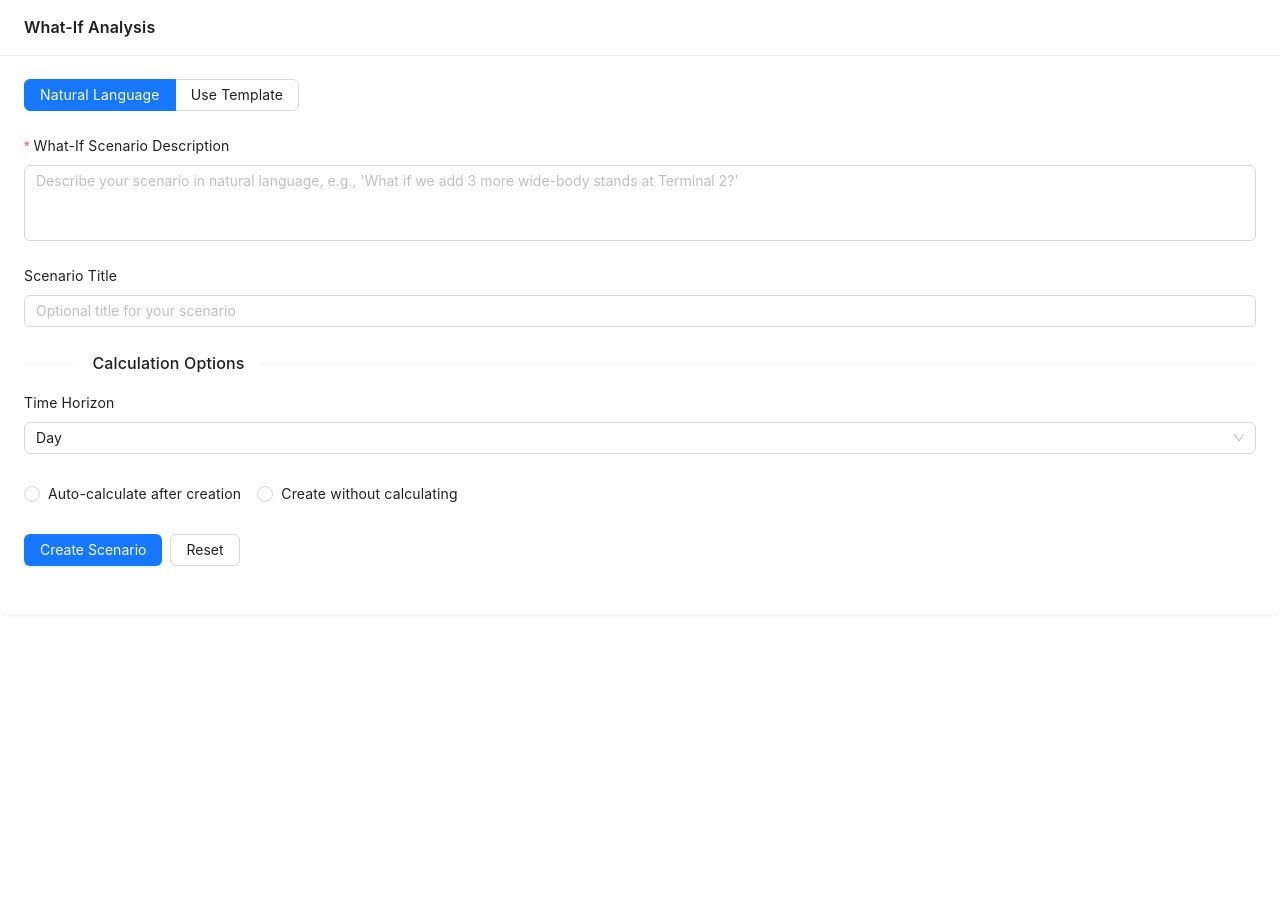
it: WhatIfAnalysis Component › handles calculation failure status correctly
Note: Fill out the form
Replace the text in the text box labelled "What-If Scenario Description" with "Test failed calculation" at (640, 203), box [24, 165, 1256, 241]
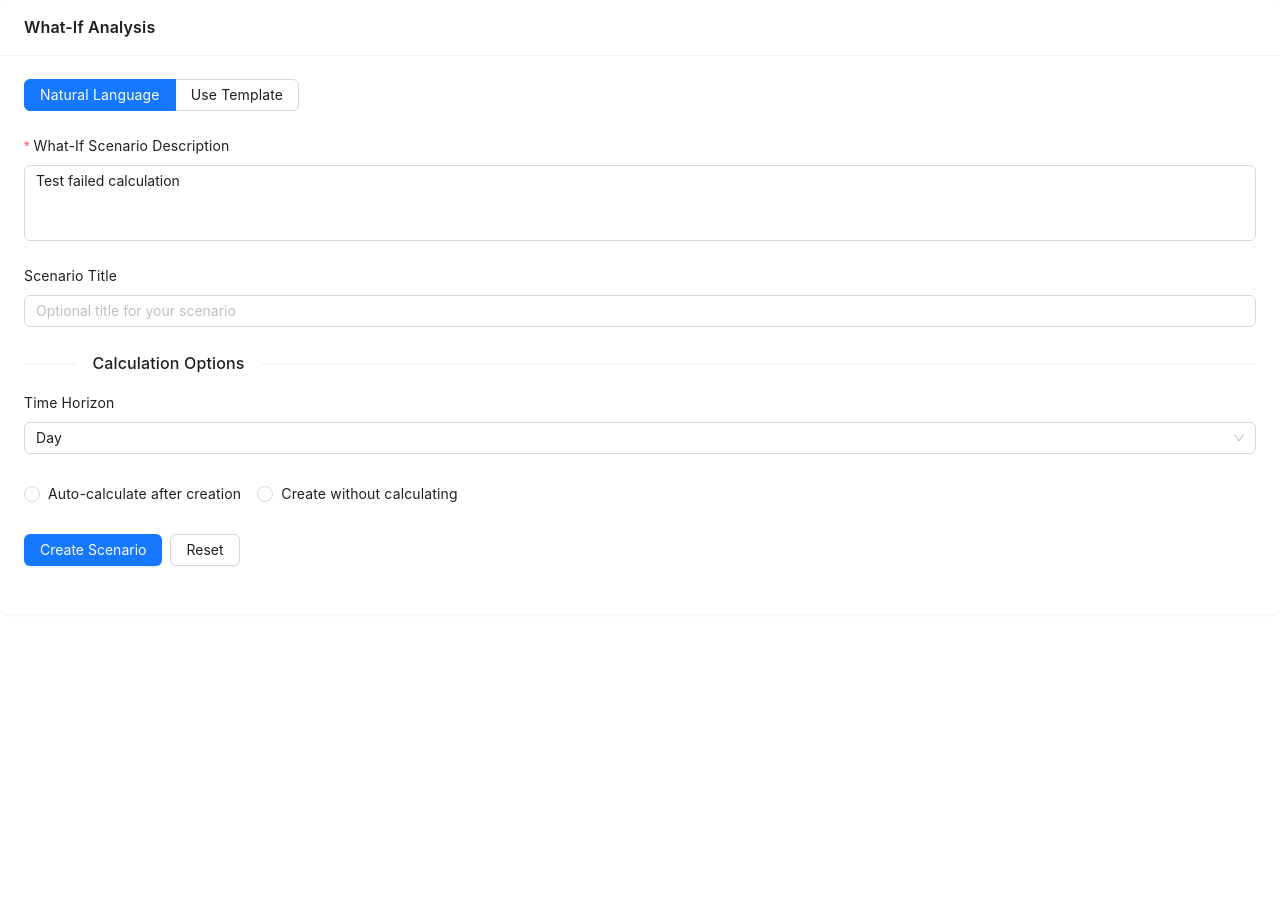
Note: Submit the form
Click the button "Create Scenario".
click(93, 550)  # box [24, 534, 162, 566]
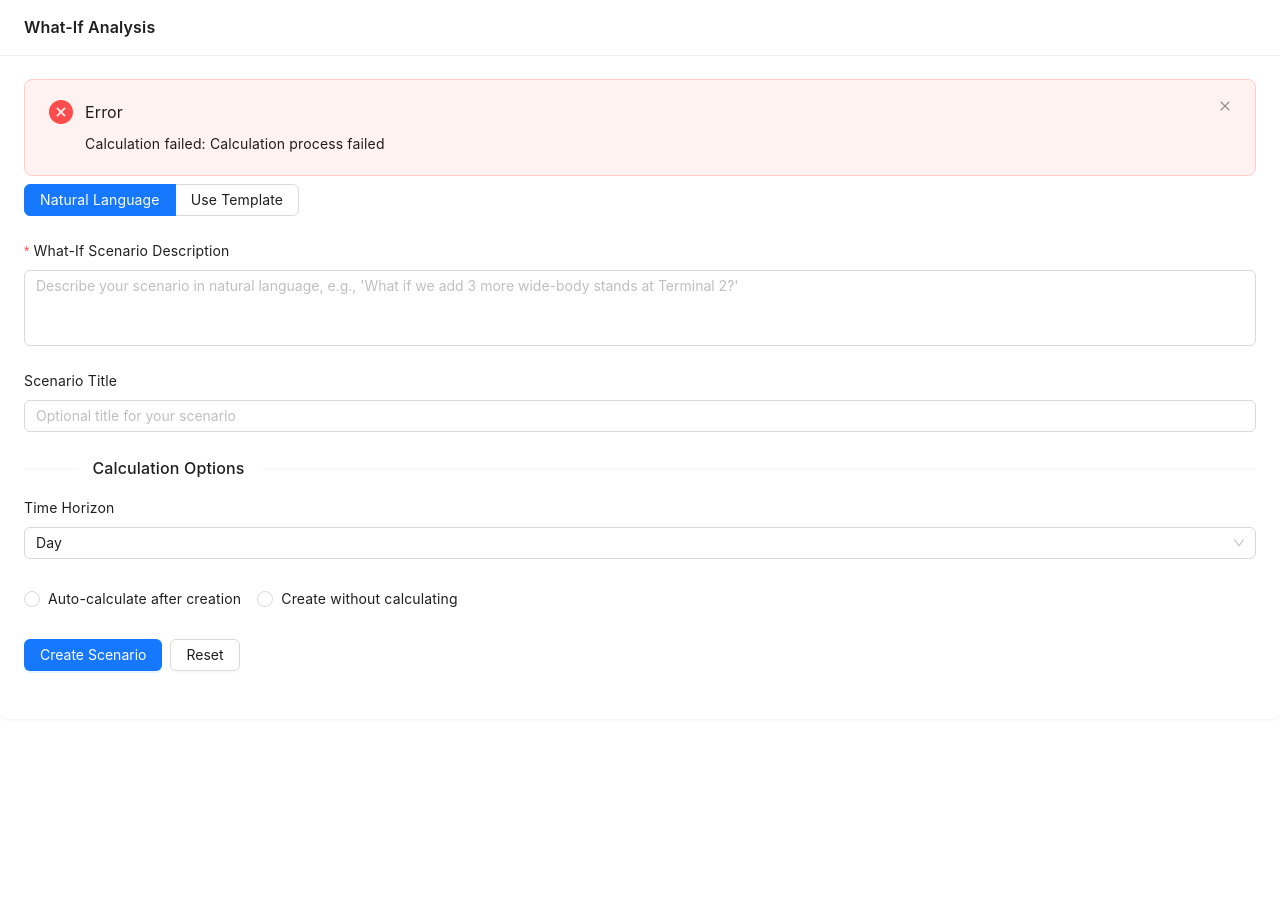
Result: the text "Error" is shown at [85, 102, 123, 122]
Result: the text "Calculation failed: Calculation process failed" is shown at [85, 135, 385, 152]
